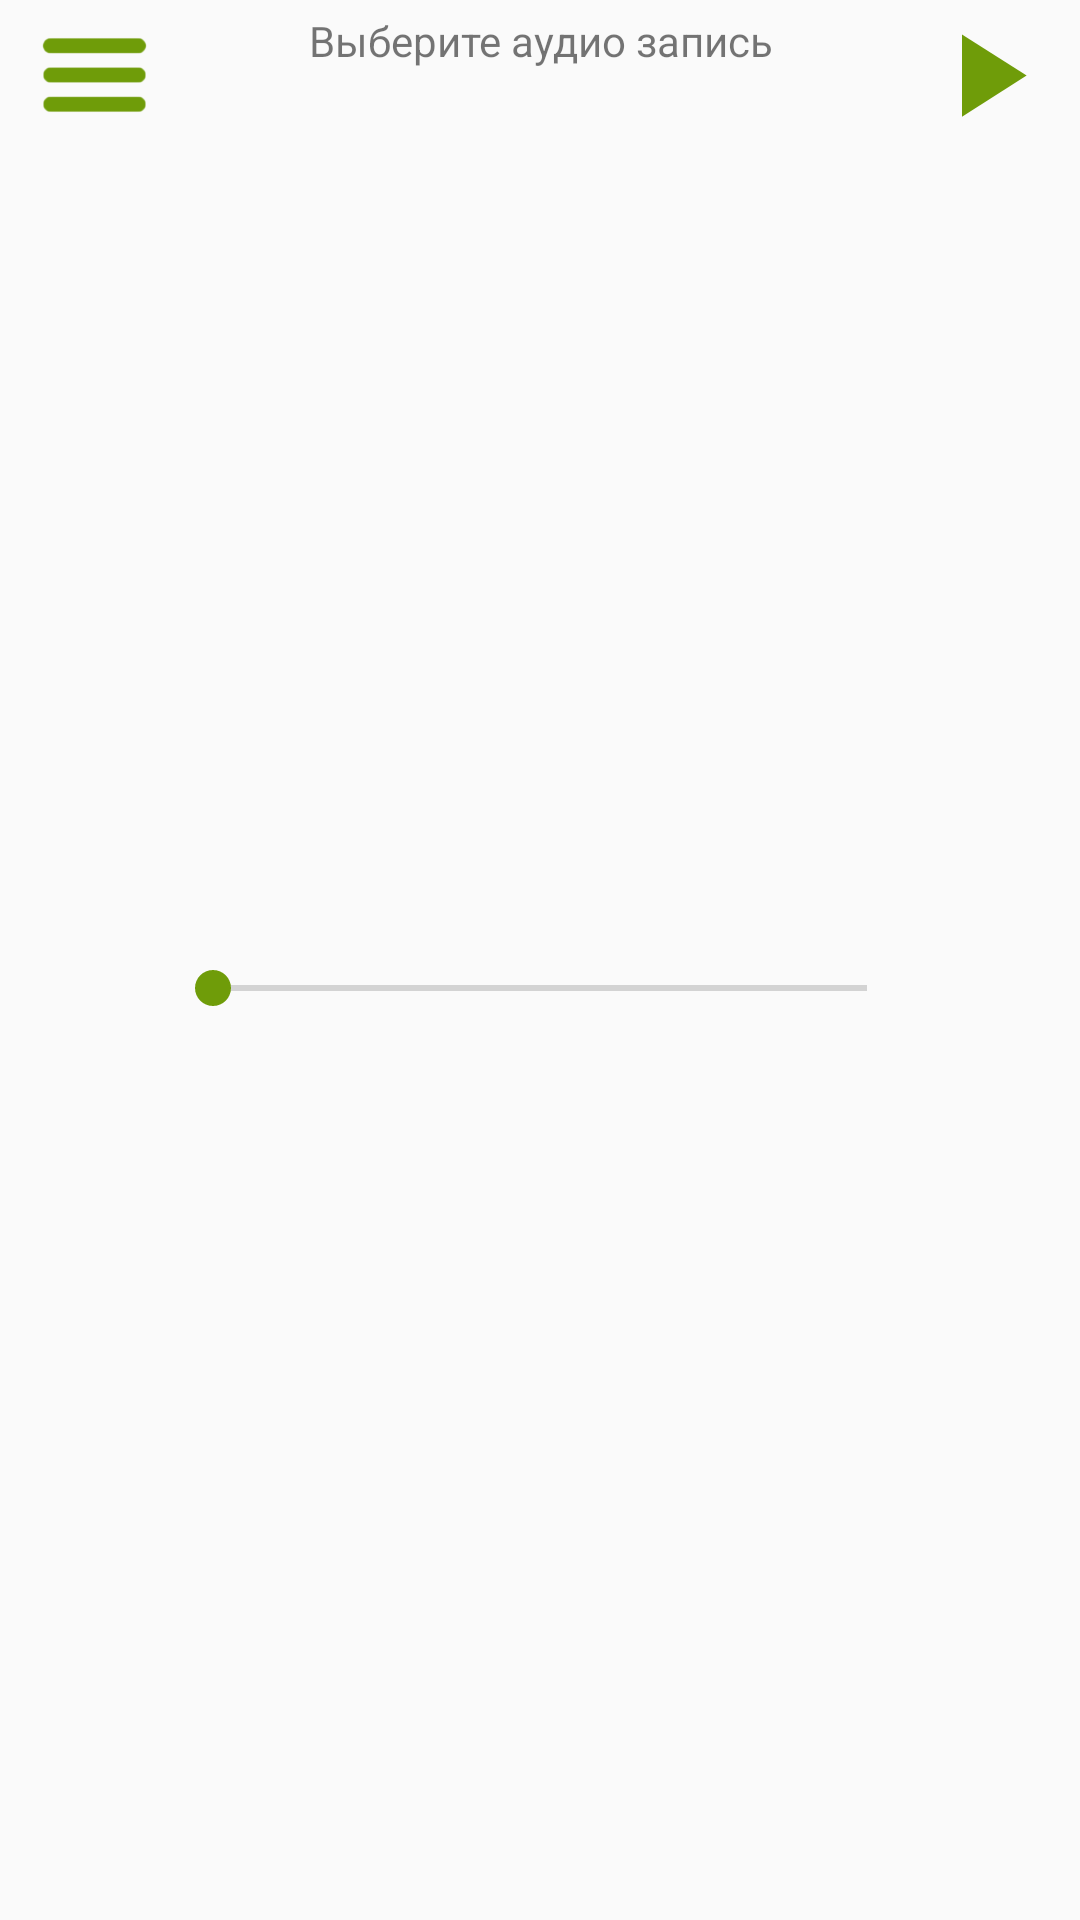

Icons on this 1080w x 1920h Android screen, each with the point to tap as point (x, y):
hamburger: point (94, 75)
play arrow: point (994, 75)
